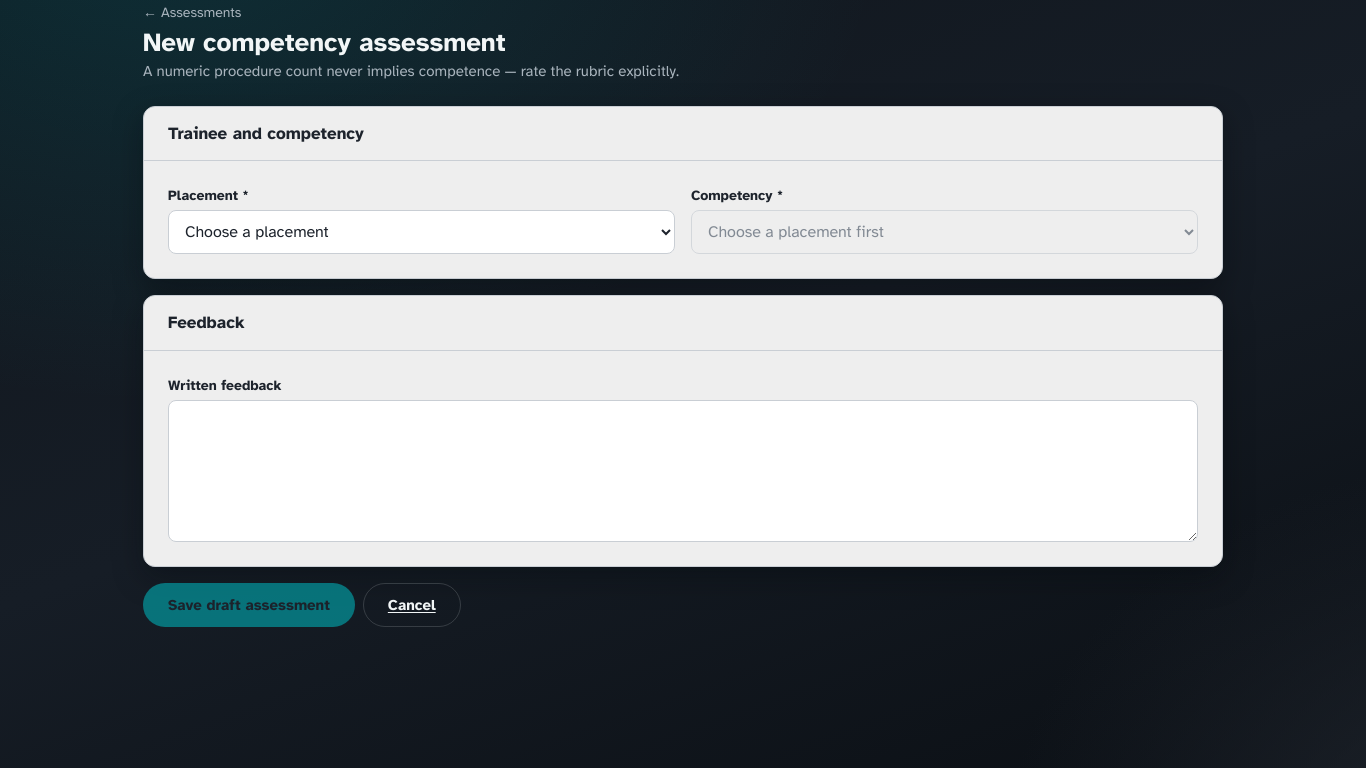
AssessmentCreatePage › scores the pinned rubric and saves a draft (no self-assessment)
Select "Trainee One — Upper GI rotation (active)" in the dropdown labelled "Placement *" at (422, 232), box [168, 210, 675, 254]
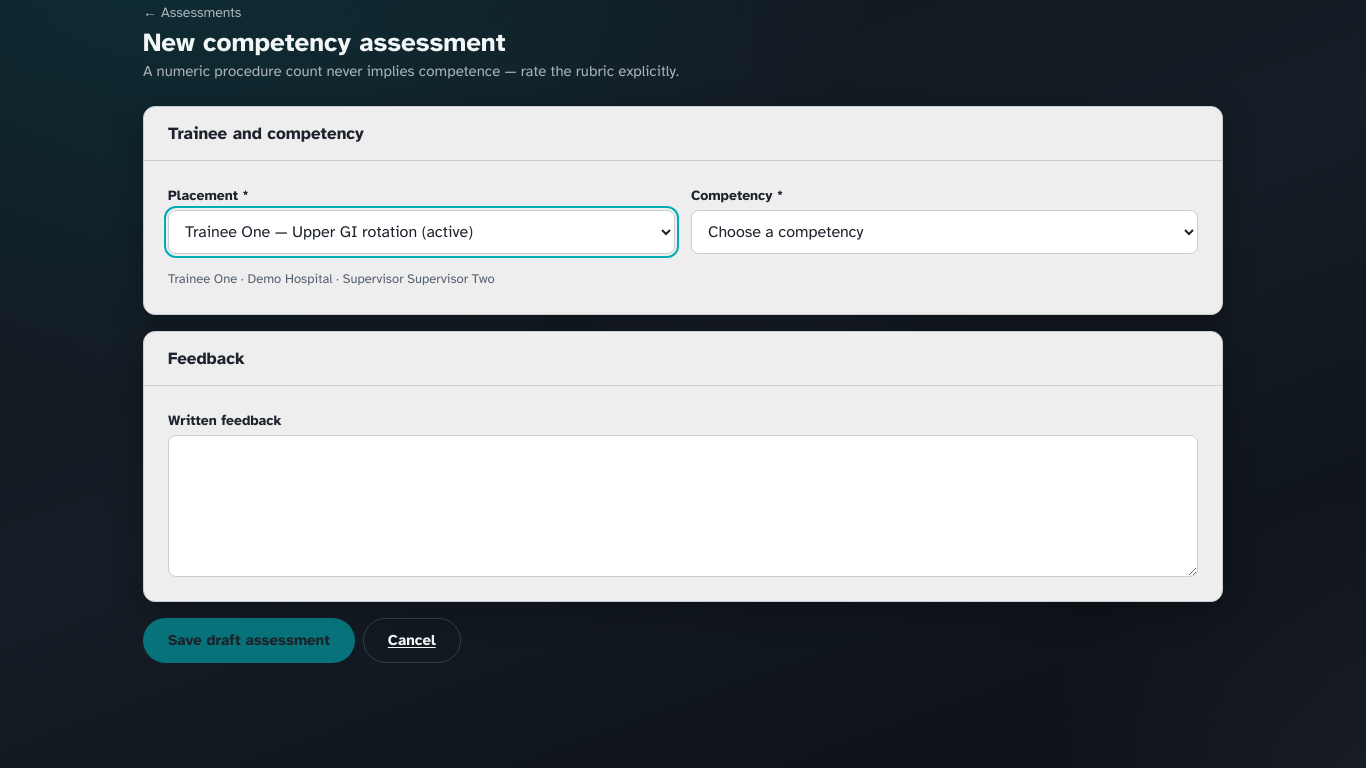
Select "SURG-01 — Laparoscopic cholecystectomy" in the dropdown labelled "Competency *" at (944, 232), box [691, 210, 1198, 254]
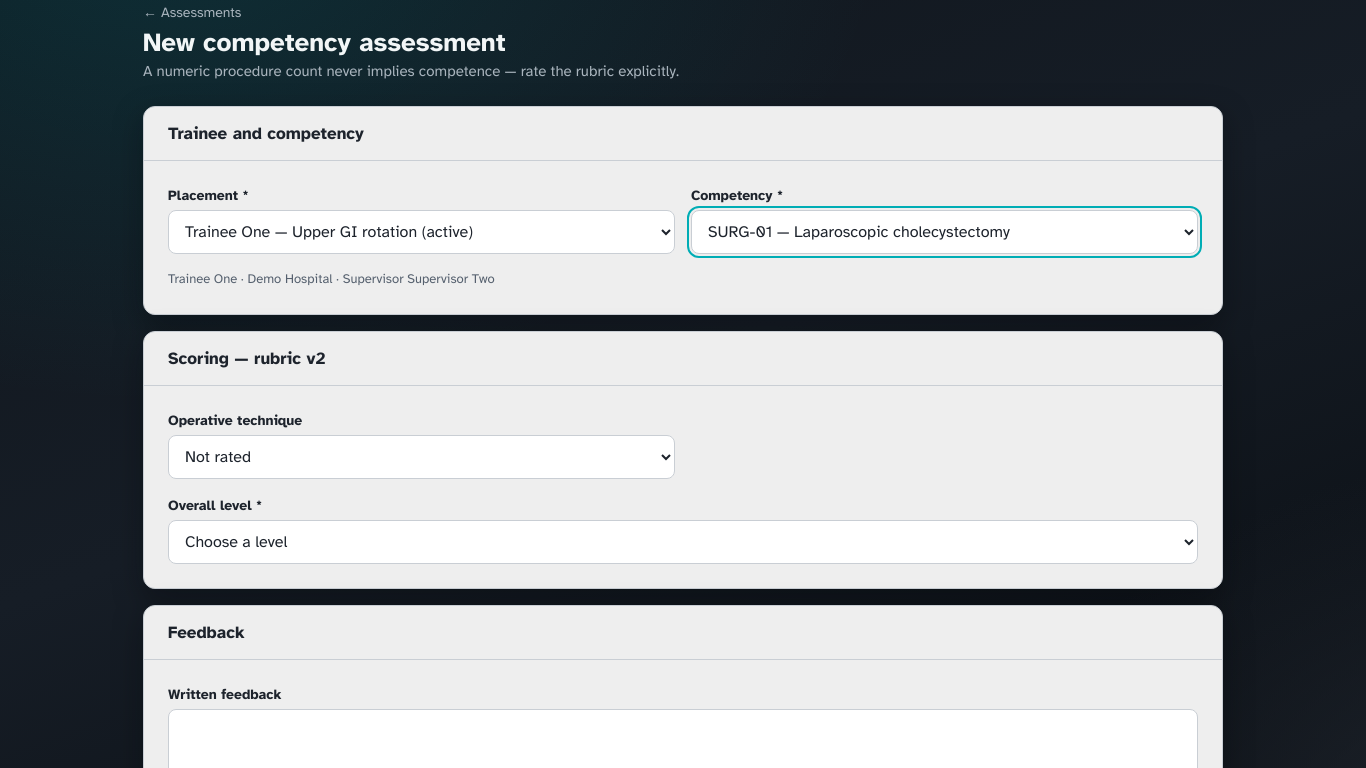
Result: the heading "Scoring — rubric v2" is shown at [168, 348, 325, 369]
Select "Competent" in the dropdown labelled "Operative technique" at (422, 457), box [168, 435, 675, 479]
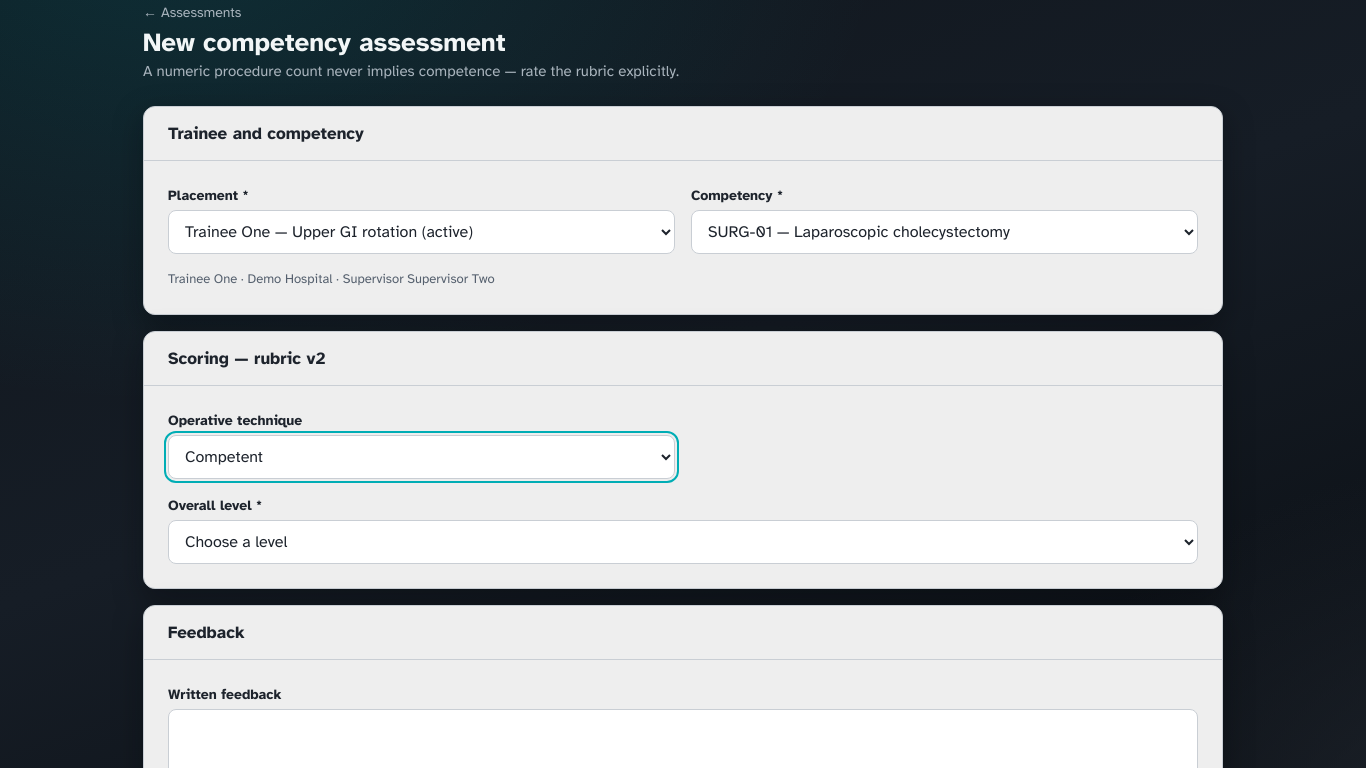
Select "Competent" in the dropdown labelled "Overall level *" at (683, 542), box [168, 520, 1198, 564]
(page scrolled)
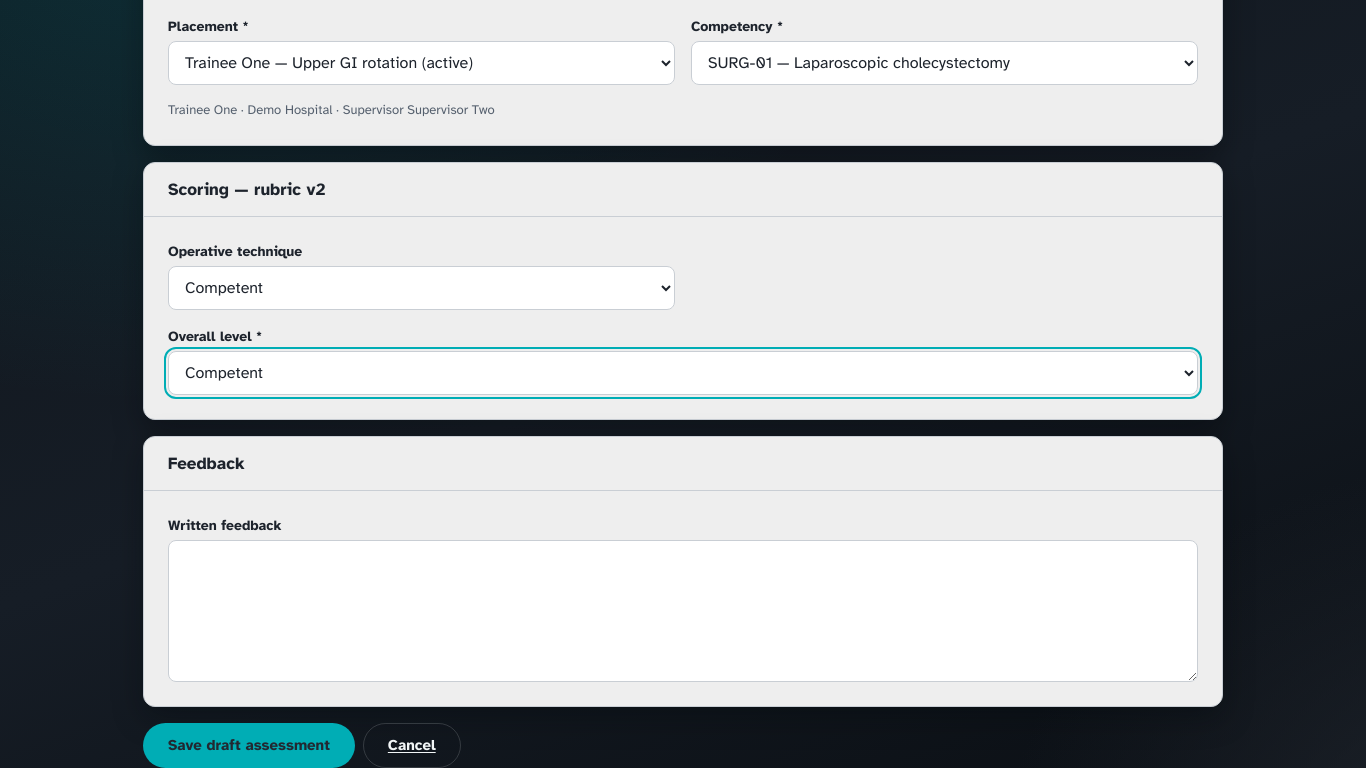
Click the button "Save draft assessment" at (249, 746), box [143, 723, 355, 767]
(page scrolled)
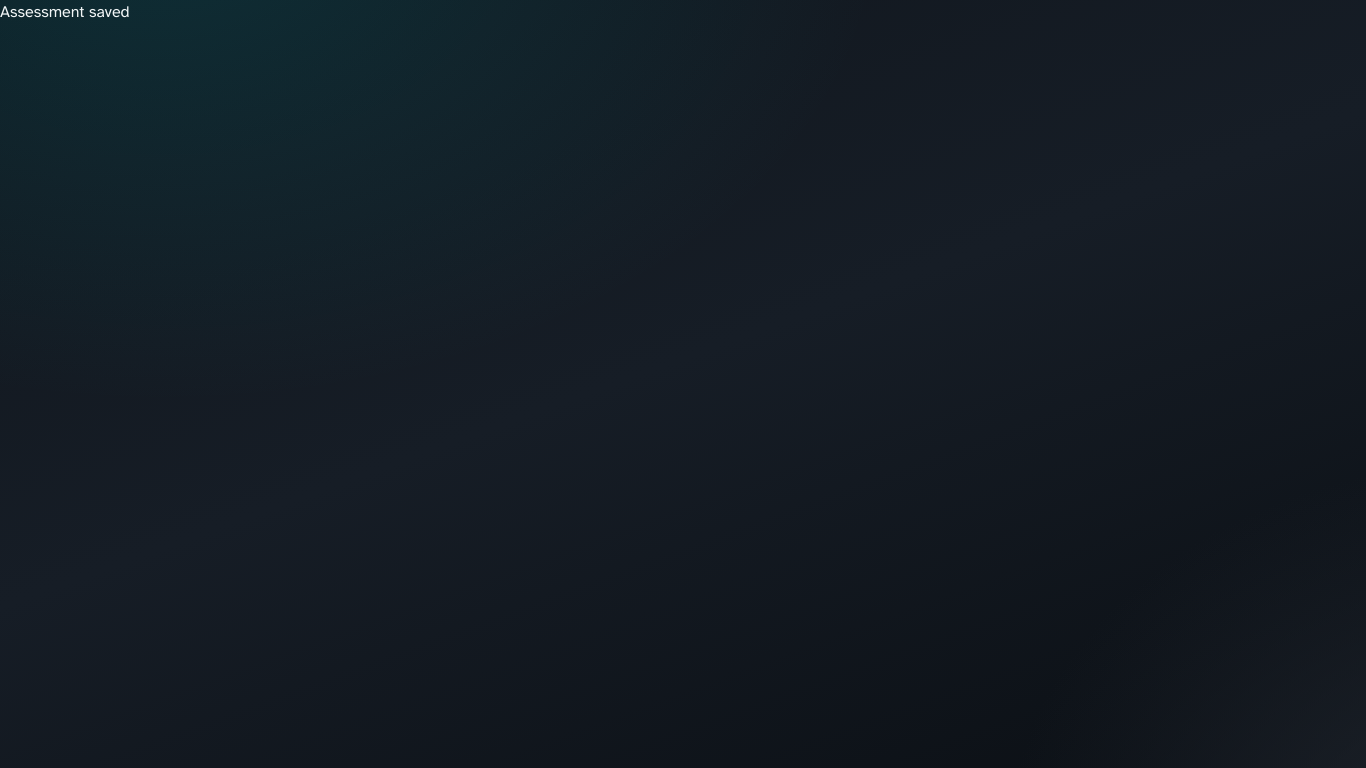
Result: the text "Assessment saved" is shown at [0, 2, 130, 22]
